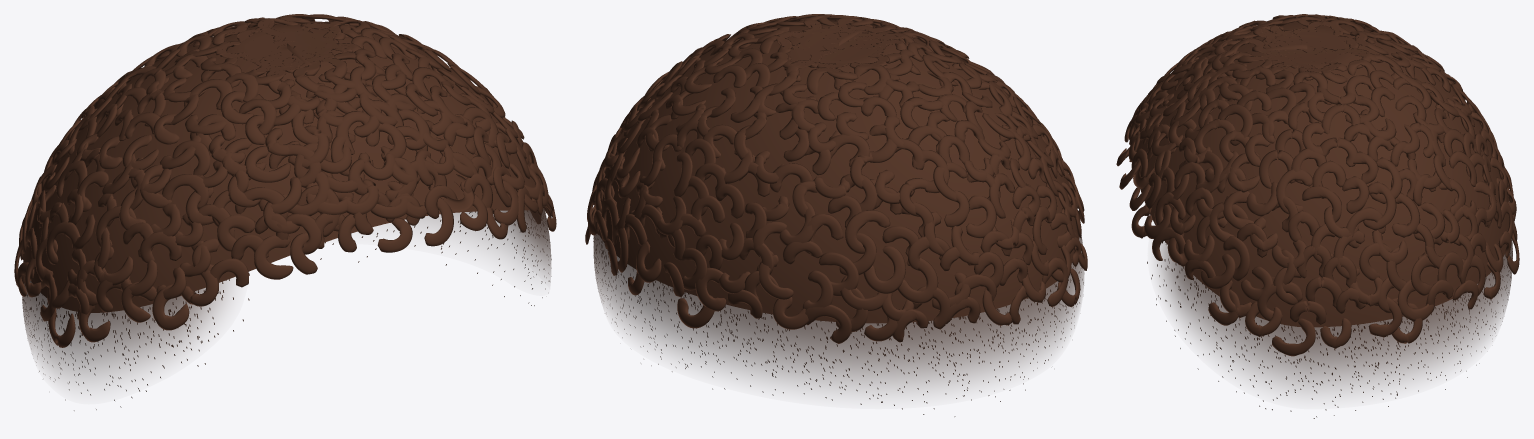
Rendered from Masculine-curly-top-cowboy-hair.glb.
3 renders of one model, left to right at view 1: azimuth 30°, elevation 25°; view 2: azimuth 150°, elevation 25°; view 3: azimuth 270°, elevation 25°, orthographic. The views are drawn at different scales.
Parts seen in each view (by area): view 1: 226 hair / Hair / sculpted curl clusters227, 226 hair / Hair / curly taper density227, 226 hair / Hair / short taper grain227; view 2: 226 hair / Hair / sculpted curl clusters227, 226 hair / Hair / curly taper density227, 226 hair / Hair / short taper grain227; view 3: 226 hair / Hair / sculpted curl clusters227, 226 hair / Hair / curly taper density227, 226 hair / Hair / short taper grain227.
Boxes of the visible parts, left/top/right/bottom form: 226 hair / Hair / sculpted curl clusters227: left=14, top=14, right=556, bottom=347; 226 hair / Hair / curly taper density227: left=22, top=208, right=550, bottom=380; 226 hair / Hair / short taper grain227: left=22, top=209, right=551, bottom=410; 226 hair / Hair / sculpted curl clusters227: left=585, top=14, right=1087, bottom=343; 226 hair / Hair / curly taper density227: left=593, top=234, right=1084, bottom=391; 226 hair / Hair / short taper grain227: left=593, top=235, right=1083, bottom=416; 226 hair / Hair / sculpted curl clusters227: left=1116, top=14, right=1519, bottom=356; 226 hair / Hair / curly taper density227: left=1158, top=238, right=1512, bottom=390; 226 hair / Hair / short taper grain227: left=1147, top=240, right=1512, bottom=418.
Bounding box in the file's own units: 0.9976 × 0.6264 × 0.801.
